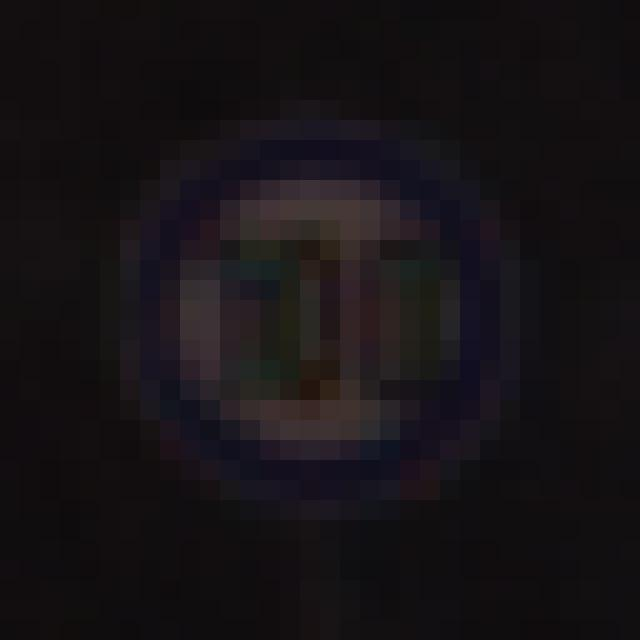SPEED LIMIT 100: (126, 132, 518, 490)
